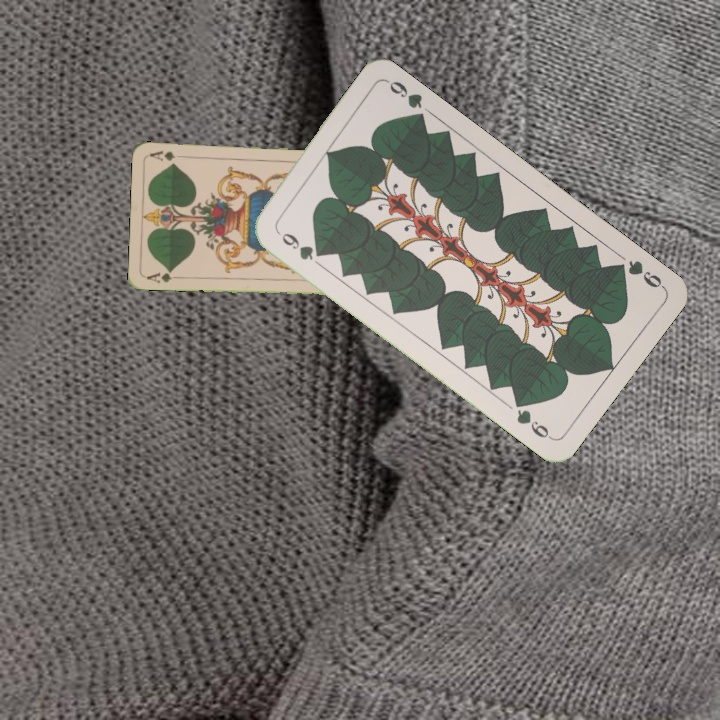G9: (609, 256, 667, 291), (277, 228, 327, 263)
GA: (143, 266, 183, 286)
